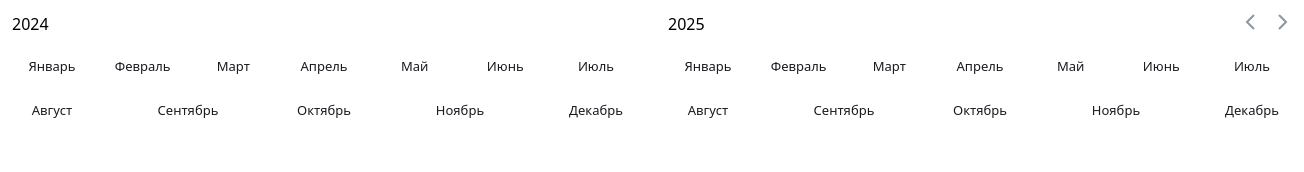
it: Компонент CalendarYearRange › При клике на левую стрелку, каждый год смещается назад (2024-2025 -> 2023-2024)
This screenshot has width=1304, height=172.
Click the 1st button. click: x=1250, y=22
box: [1240,12,1260,32]
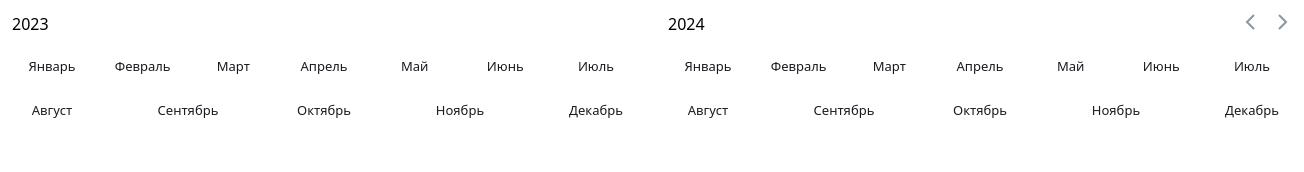
Expected: the text "2024" is shown, [668,13,705,35]
Expected: the text "2023" is shown, [12,13,49,35]
